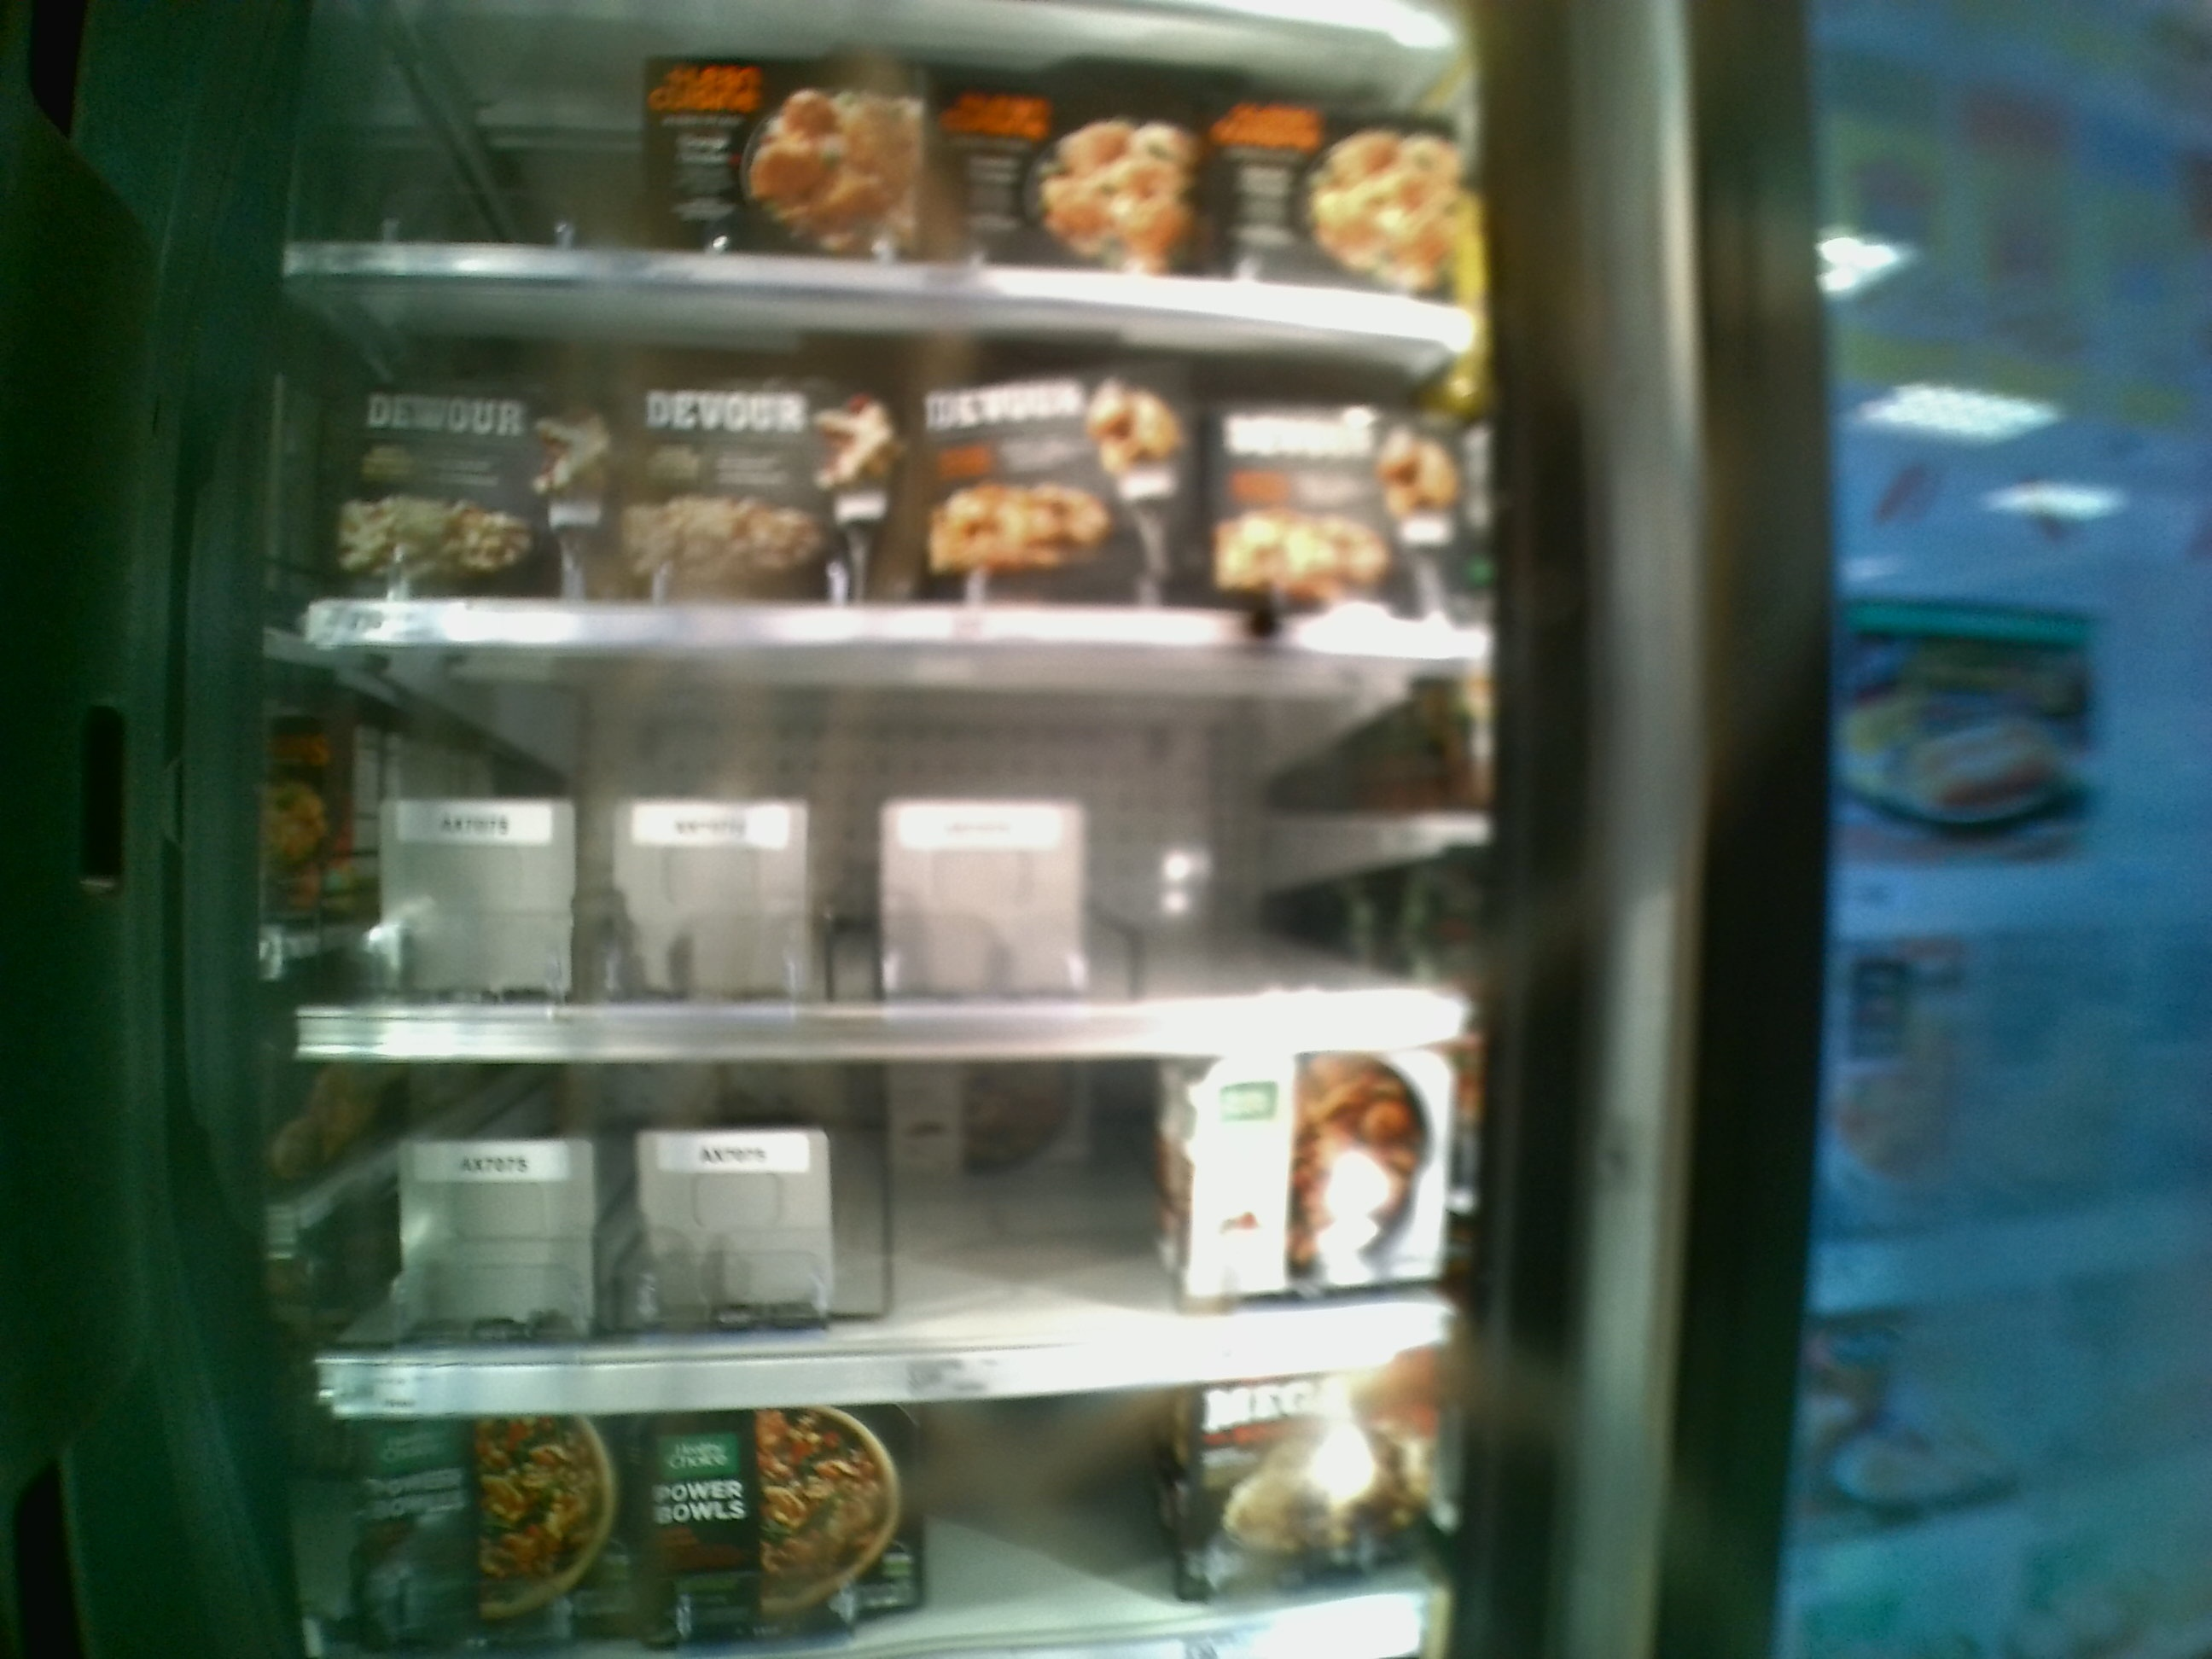shelf: (301, 647, 1480, 1063), (275, 275, 1489, 659), (294, 1049, 1496, 1419)
